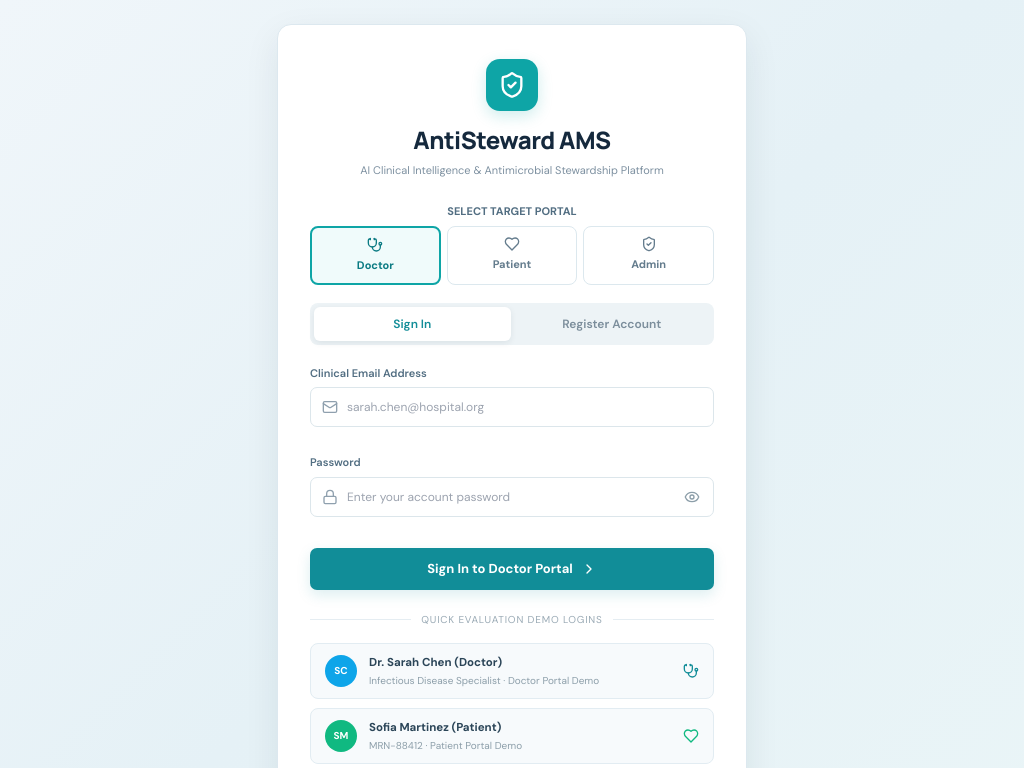
Scenario: Frontend Component: AuthScreen & Role Selection › switches email placeholder when selecting Patient target portal
Step 1. Click the button with aria-label "select patient portal" → (512, 255), box x1=447 y1=226 x2=577 y2=284
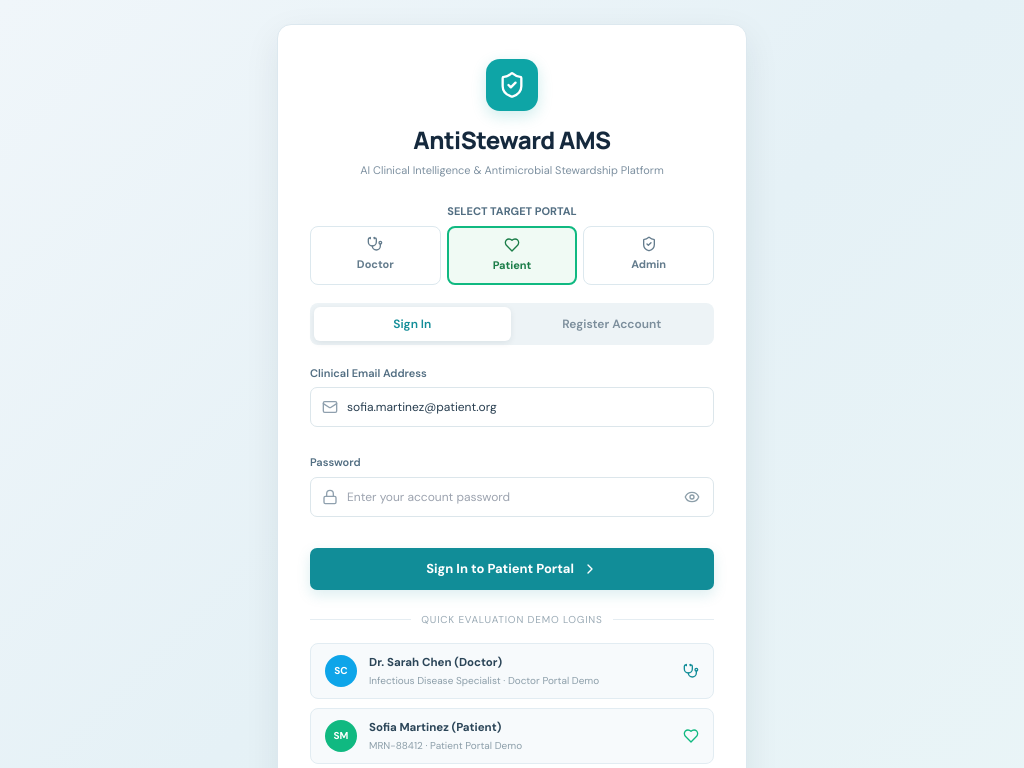
Result: the field with placeholder "sofia.martinez@patient.org" is shown at x1=310 y1=387 x2=714 y2=427
